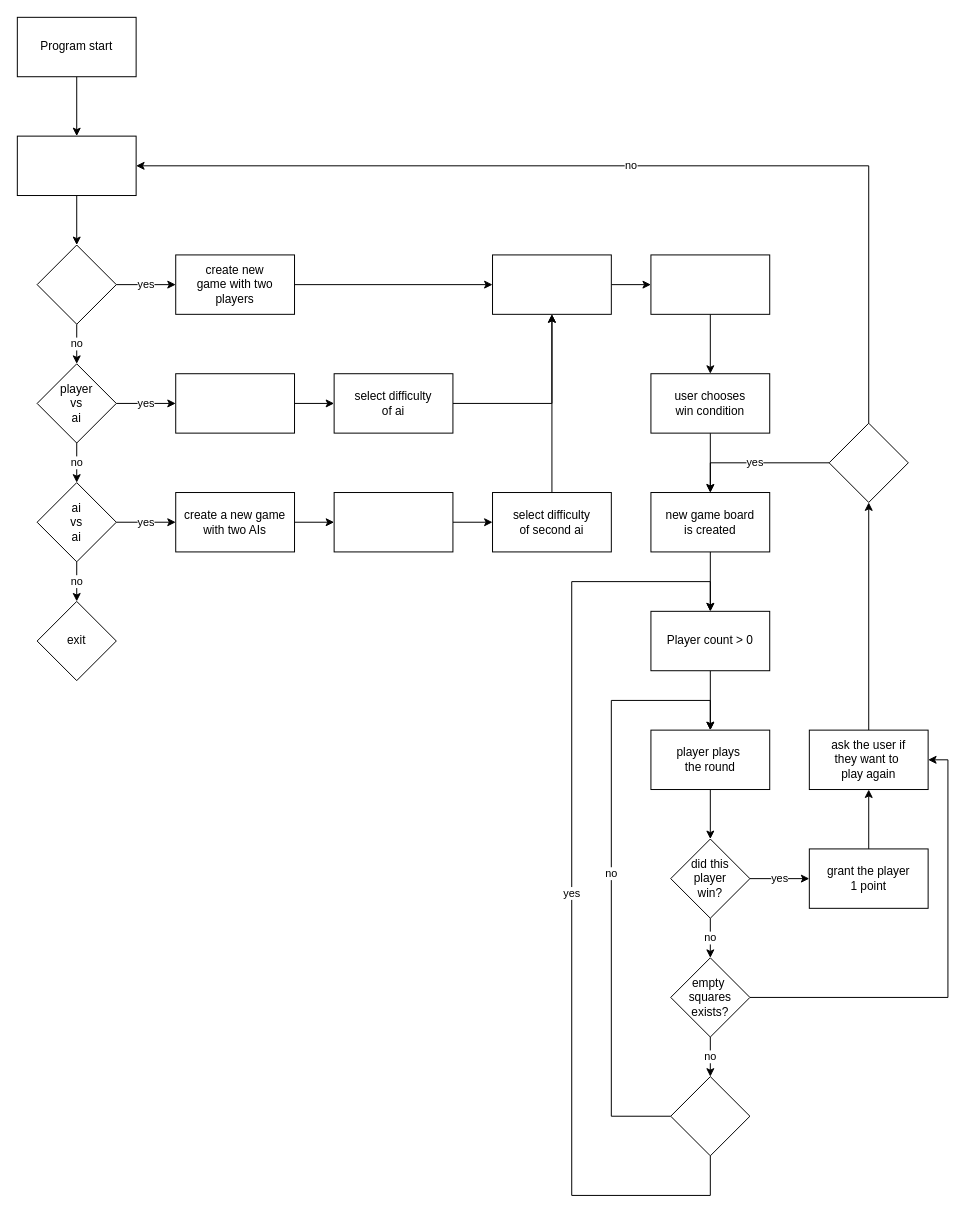
The diagram is 973 pixels wide and 1221 high, and some of its shapes have lost their labels. Here are the shapes that lost their labels. From the top down, the box of each, then its label:
(16, 135, 136, 196): users game mode input
(36, 244, 116, 324): player vs player
(492, 254, 611, 314): player chooses board width
(650, 254, 770, 314): user chooses board height
(175, 373, 295, 433): create new game with player and AI
(828, 422, 908, 502): play again?
(333, 492, 453, 552): select difficulty of first ai
(670, 1076, 750, 1156): end of player array?
